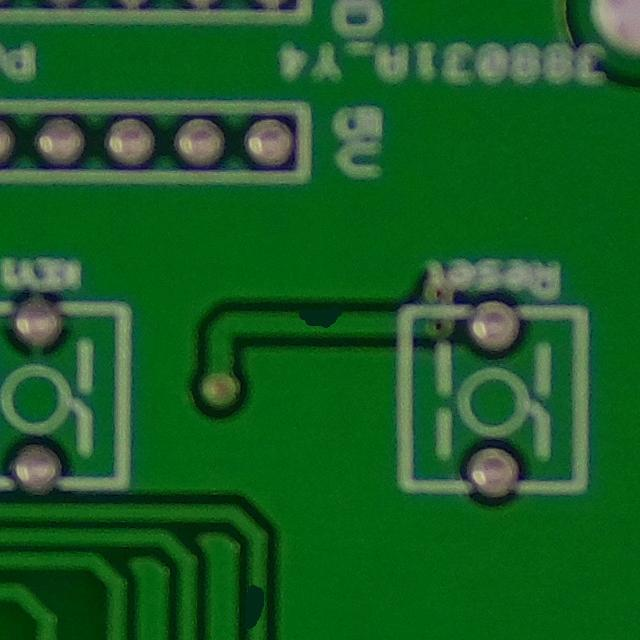mouse_bite: (288, 301, 353, 339)
